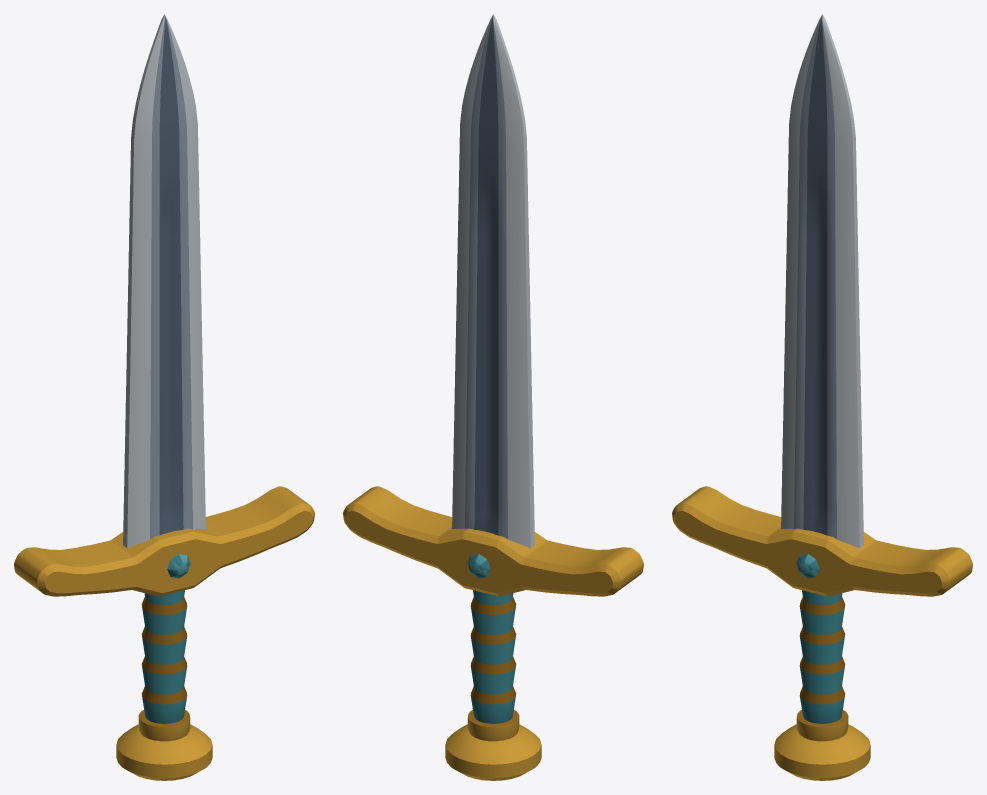
File: Longsword_15.glb
3 renders of one model, left to right at view 1: azimuth 30°, elevation 25°; view 2: azimuth 150°, elevation 25°; view 3: azimuth 330°, elevation 25°, orthographic.
Parts seen in each view (by area): view 1: Longsword_15; view 2: Longsword_15; view 3: Longsword_15.
Boxes of the visible parts, bbox=[...] form: Longsword_15: bbox=[14, 14, 314, 780]; Longsword_15: bbox=[343, 14, 643, 780]; Longsword_15: bbox=[672, 14, 972, 780].
Bounding box in the file's own units: 2.52 × 6.53 × 0.7566.
